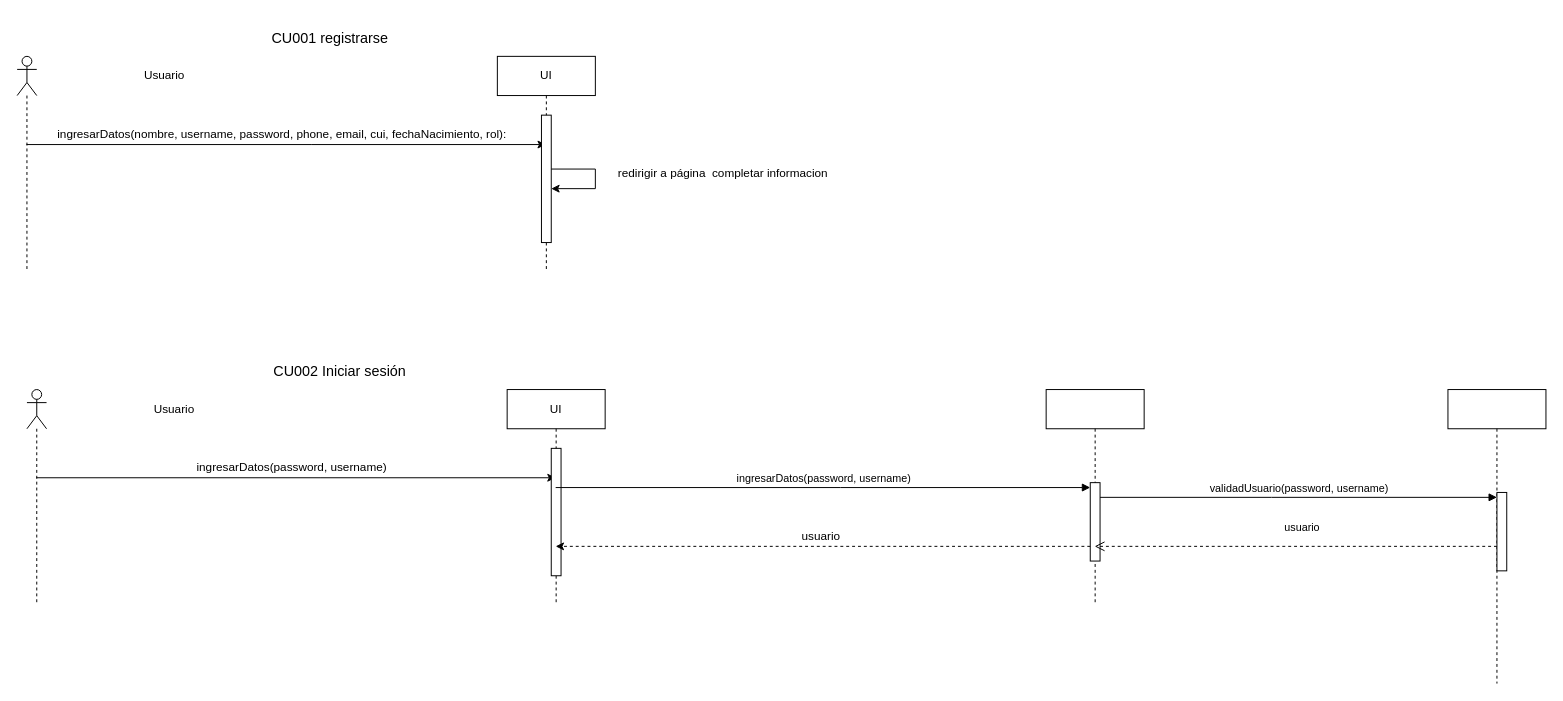
Image size: 1563x701. Some labels were removed from this diagram. The box of each missing label's shape, as (x1, y1, x2, y2) in pixels:
:servlet: (1045, 389, 1144, 605)
:UsuarioDB: (1447, 389, 1546, 684)
